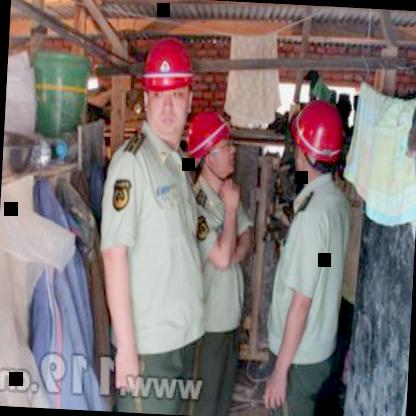helmet: (281, 84, 350, 198), (129, 31, 201, 140), (181, 107, 240, 186)
